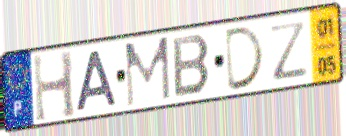A: (72, 48, 120, 114)
B: (171, 33, 212, 100)
D: (224, 23, 268, 94)
H: (31, 48, 79, 126)
M: (122, 34, 173, 111)
Z: (267, 18, 310, 83)
